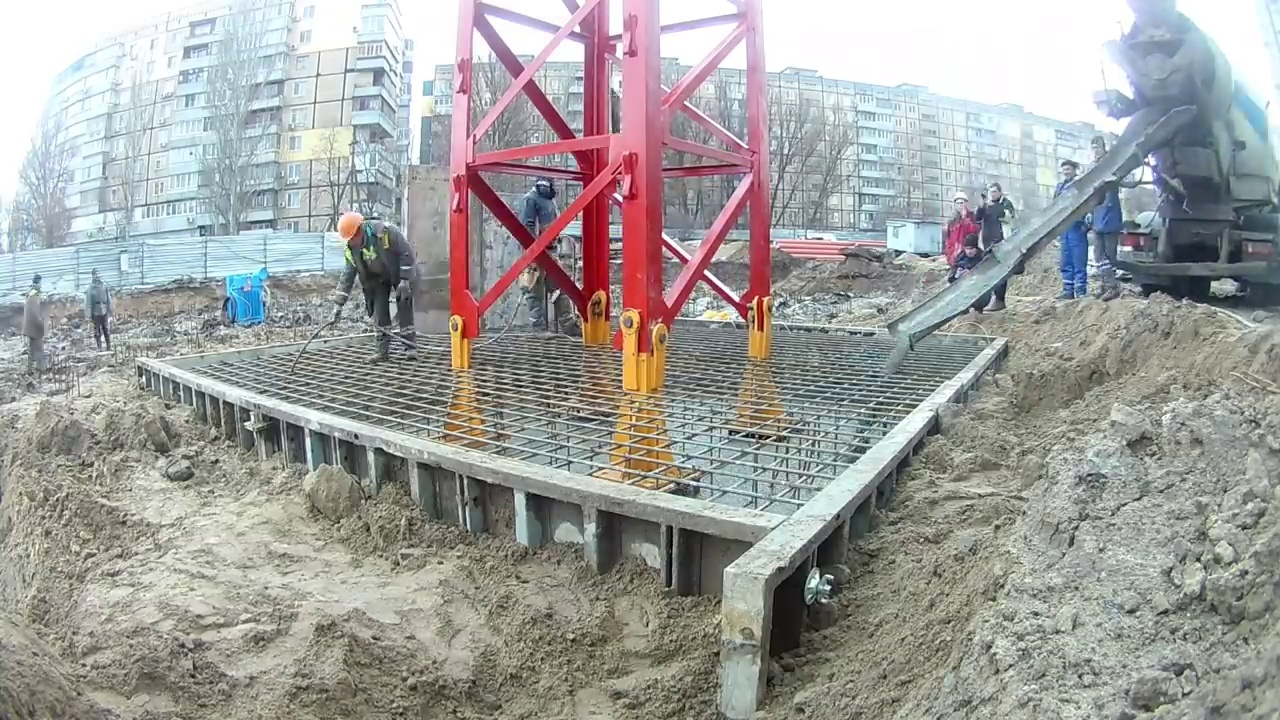helmet: (337, 212, 363, 246), (952, 191, 968, 202)
helmet-off: (531, 173, 559, 203), (1058, 158, 1081, 190), (950, 191, 970, 221), (959, 235, 980, 262), (987, 182, 1005, 209), (1090, 136, 1105, 161), (30, 272, 43, 296), (90, 268, 103, 288)
helmet-on: (335, 204, 371, 254)
person: (330, 207, 422, 362), (518, 171, 578, 340), (1090, 134, 1126, 303), (1053, 159, 1093, 302), (979, 182, 1020, 311), (942, 190, 981, 284), (84, 269, 117, 353), (23, 273, 49, 376), (947, 234, 987, 283)
